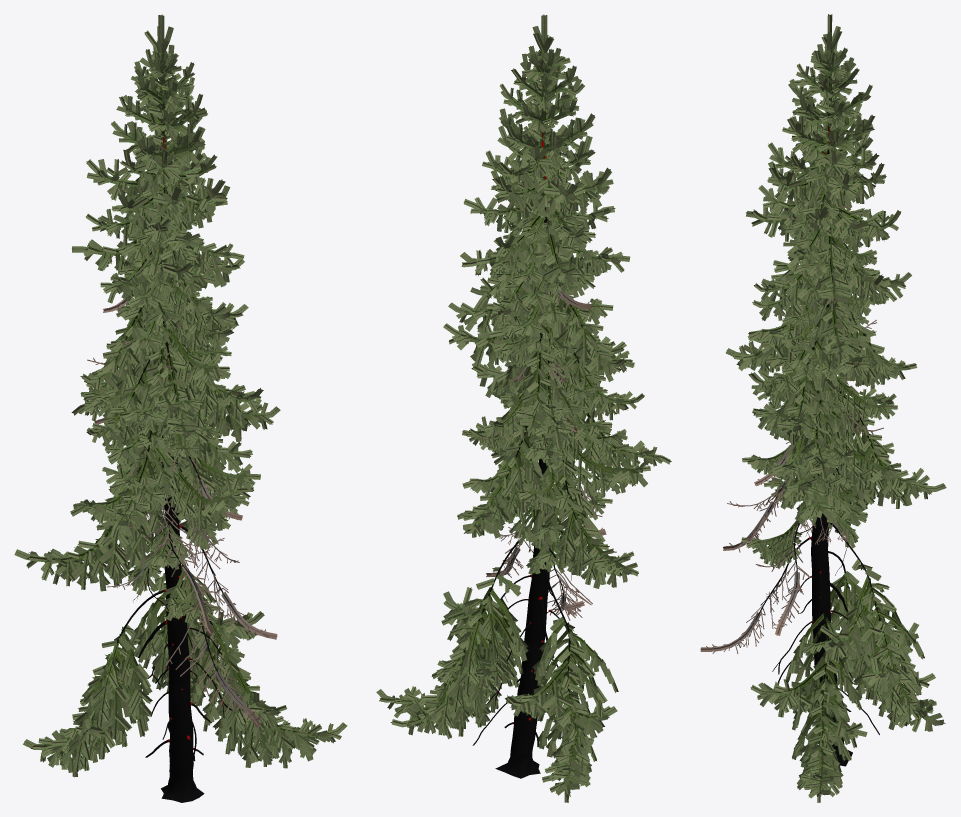
The model's file is Picea mariana HD_Arctic mat 100_LOD1.fbx.
The picture shows the model from 3 angles, left to right: view 1: azimuth 30°, elevation 25°; view 2: azimuth 150°, elevation 25°; view 3: azimuth 270°, elevation 25°; orthographic projection. The views are drawn at different scales.
Parts seen in each view (by area): view 1: Picea_mariana_HD; view 2: Picea_mariana_HD; view 3: Picea_mariana_HD.
Boxes of the visible parts, left/top/right/bottom form: Picea_mariana_HD: left=14, top=14, right=347, bottom=802; Picea_mariana_HD: left=376, top=14, right=671, bottom=802; Picea_mariana_HD: left=700, top=14, right=946, bottom=802.
Bounding box in the file's own units: 1.99 × 4.99 × 1.52.
